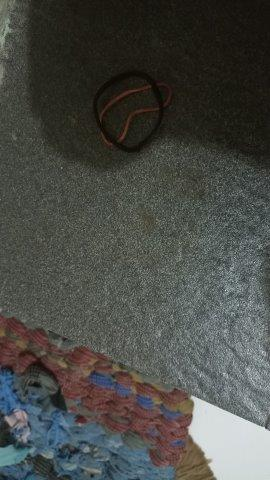karet: (92, 73, 174, 151)
